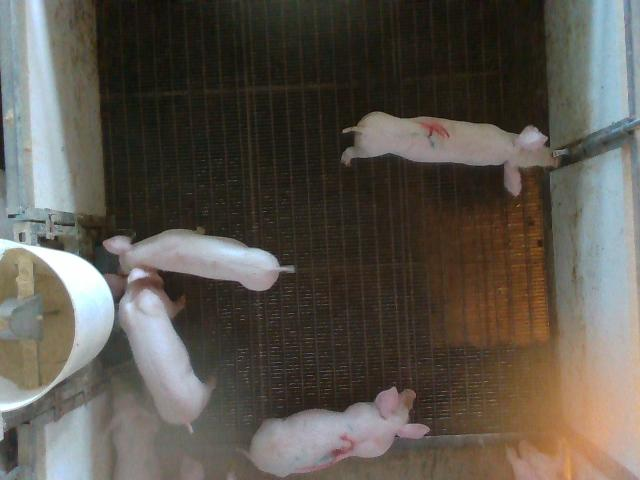pig-3: (248, 388, 429, 476)
pig-4: (341, 111, 555, 196)
